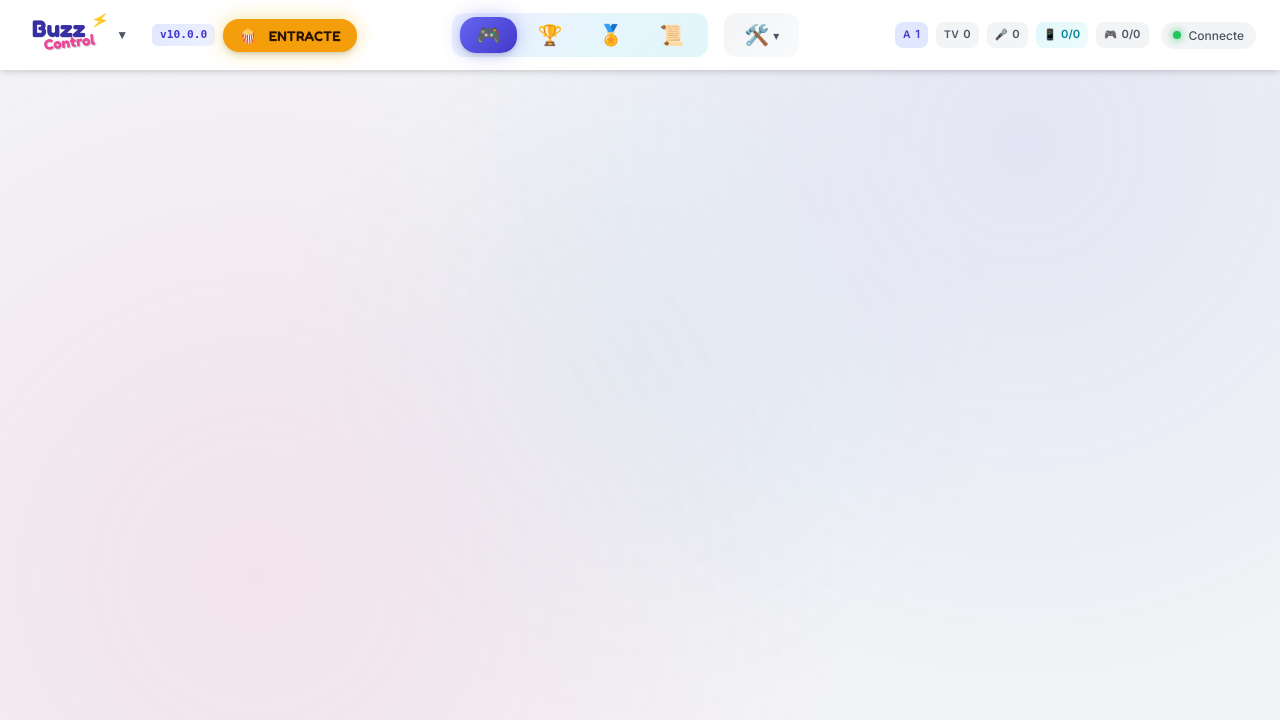
#207 — entrée « Ambiance » du menu › est un lien vers /admin/ambiance, placé JUSTE APRÈS Config
The image size is (1280, 720).
Click the button with aria-label "Menu de navigation": (80, 35) [24, 12, 136, 58]
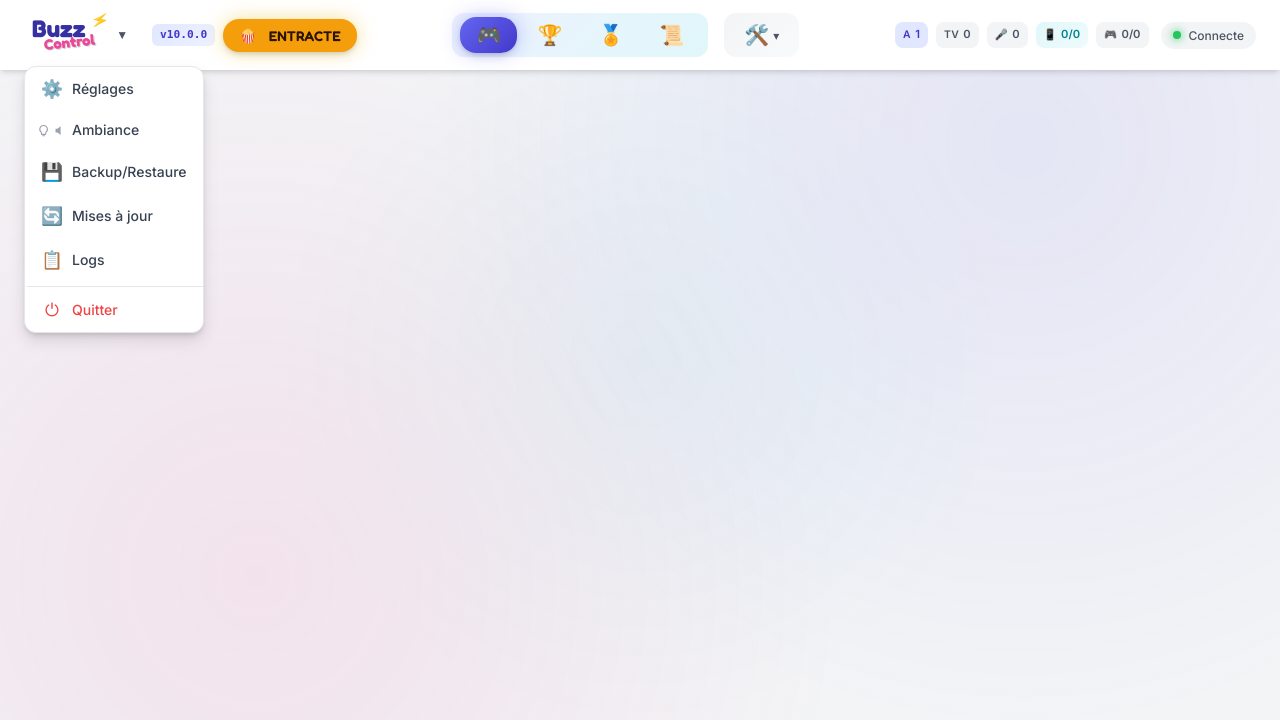
Expected: the text with class "menu-label" reads "Quitter", [72, 301, 118, 318]
